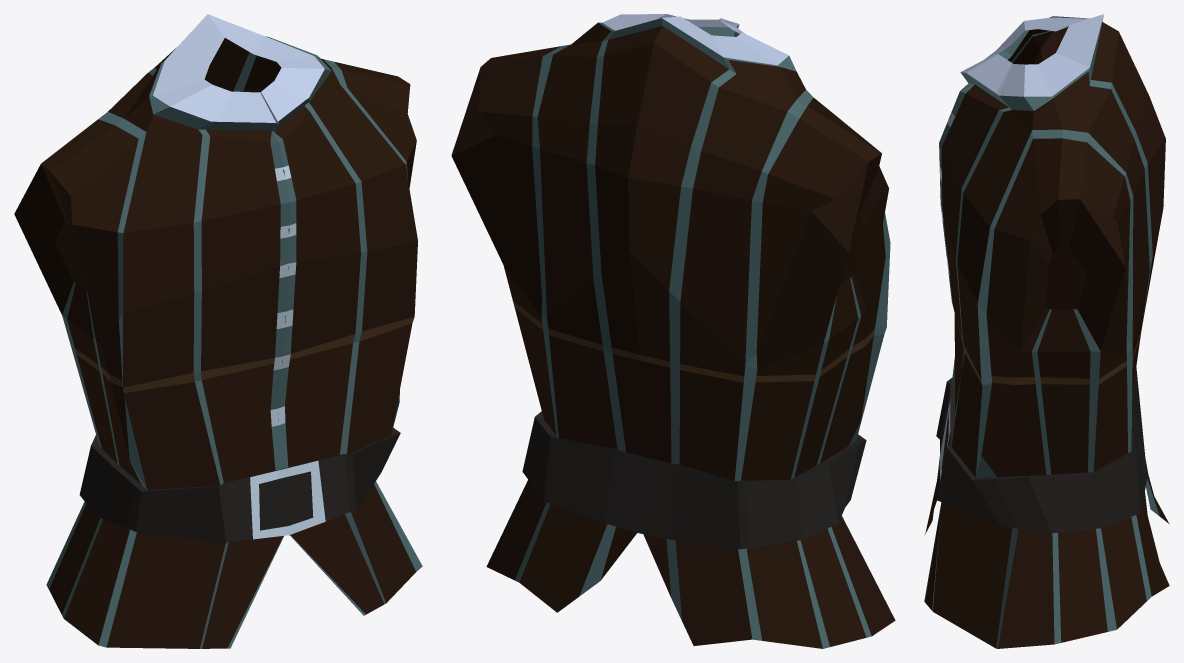
Rendered from leather_body_obj.fbx.
3 renders of one model, left to right at view 1: azimuth 30°, elevation 25°; view 2: azimuth 150°, elevation 25°; view 3: azimuth 270°, elevation 25°, orthographic. The views are drawn at different scales.
Visible parts, largest first — view 1: Body; view 2: Body; view 3: Body.
Boxes of the visible parts, x1,y1,x2,y2 form: Body: [14, 14, 422, 648]; Body: [451, 14, 895, 648]; Body: [924, 14, 1169, 648].
Size of the model in its own units: 402 by 585 by 233.
